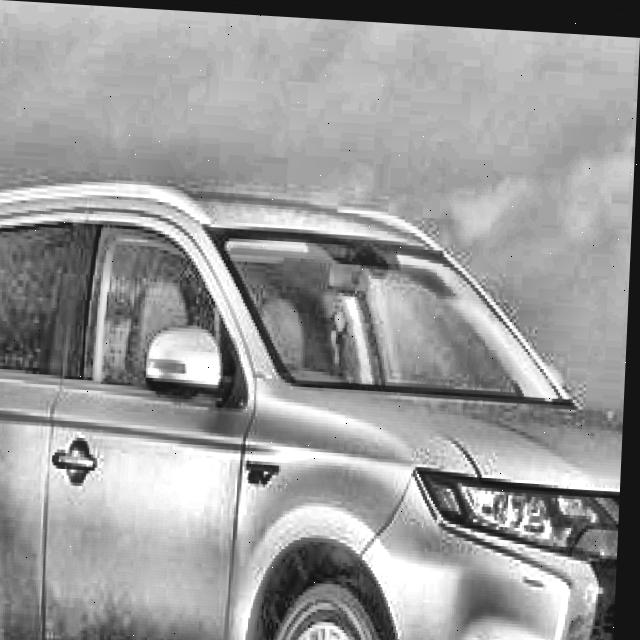light_vehicle: (0, 169, 634, 640)
